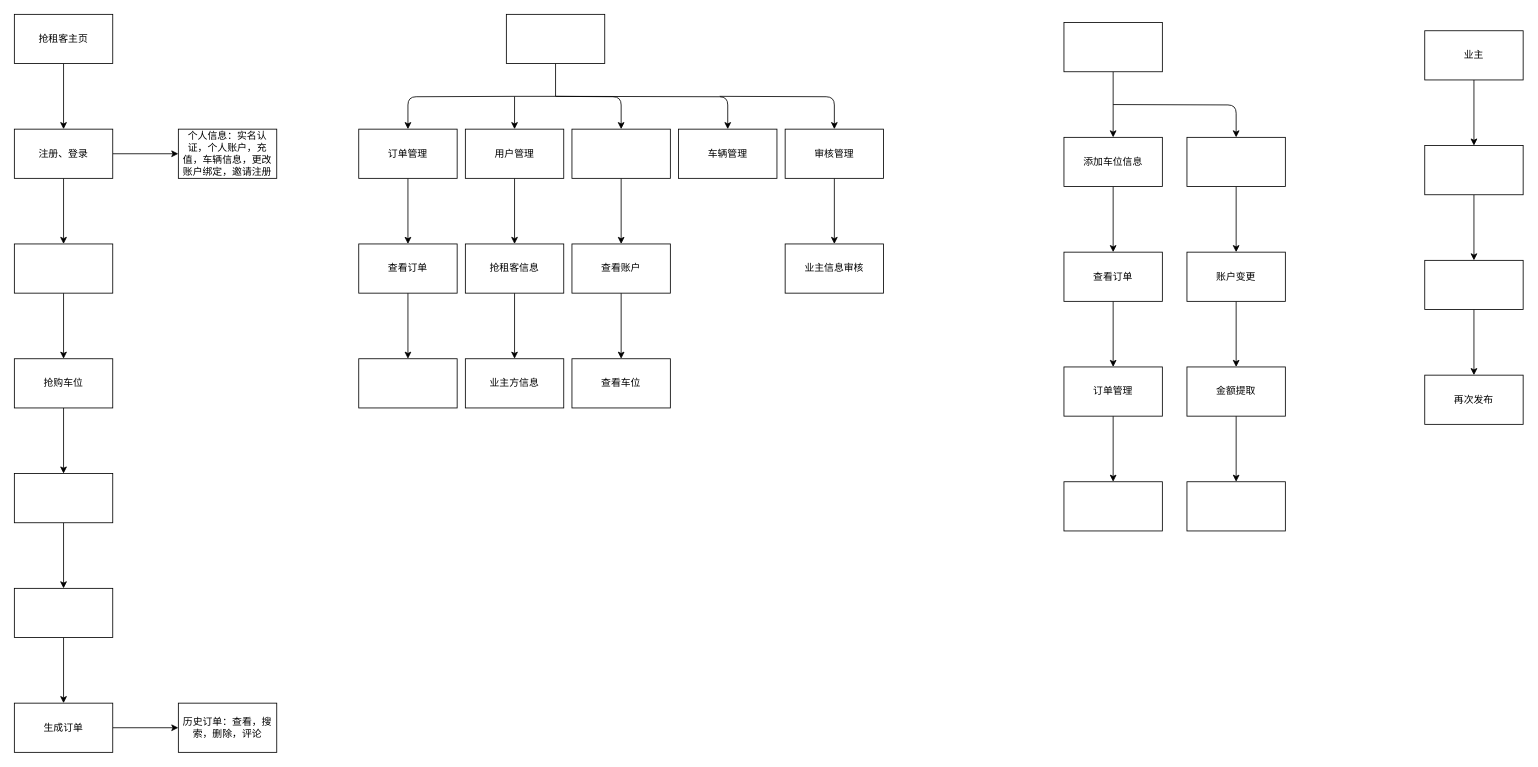
The diagram is 1538 pixels wide and 767 high, and some of its shapes have lost their labels. Here are the shapes that lost their labels. From the top down, the centre of each, then its label:
At point (555, 39): "物业方".
At point (1112, 47): "业主方".
At point (620, 153): "账户管理".
At point (1235, 162): "个人信息".
At point (1473, 170): "发布车位".
At point (63, 268): "搜搜车位，查看车位详情".
At point (1473, 285): "收款".
At point (407, 383): "评价管理".
At point (63, 498): "导航，停车".
At point (1112, 506): "查看评价".
At point (1235, 506): "分享🐎".
At point (63, 613): "完成停车".
